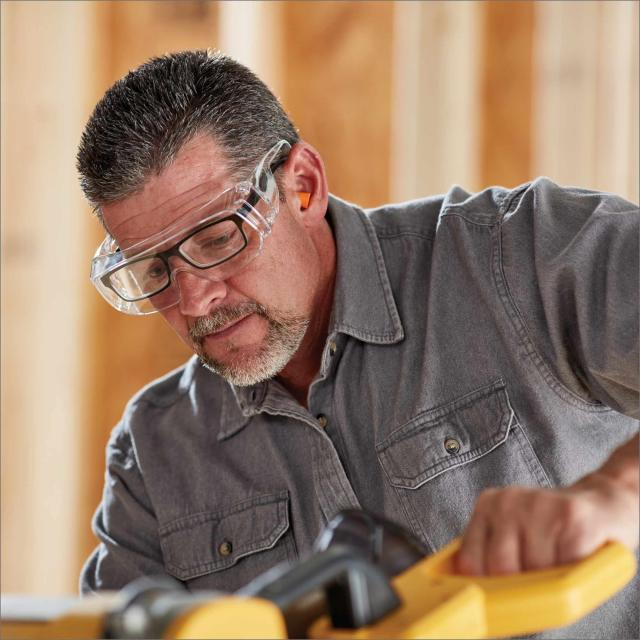Goggles: (55, 191, 278, 316)
